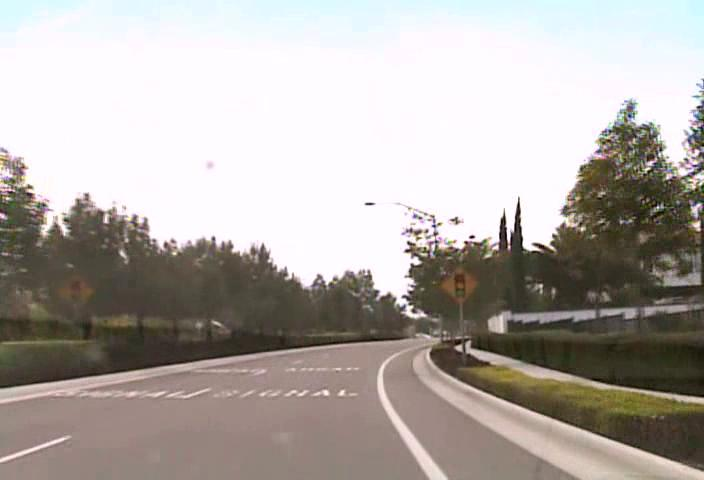signalAhead: (56, 272, 94, 309)
